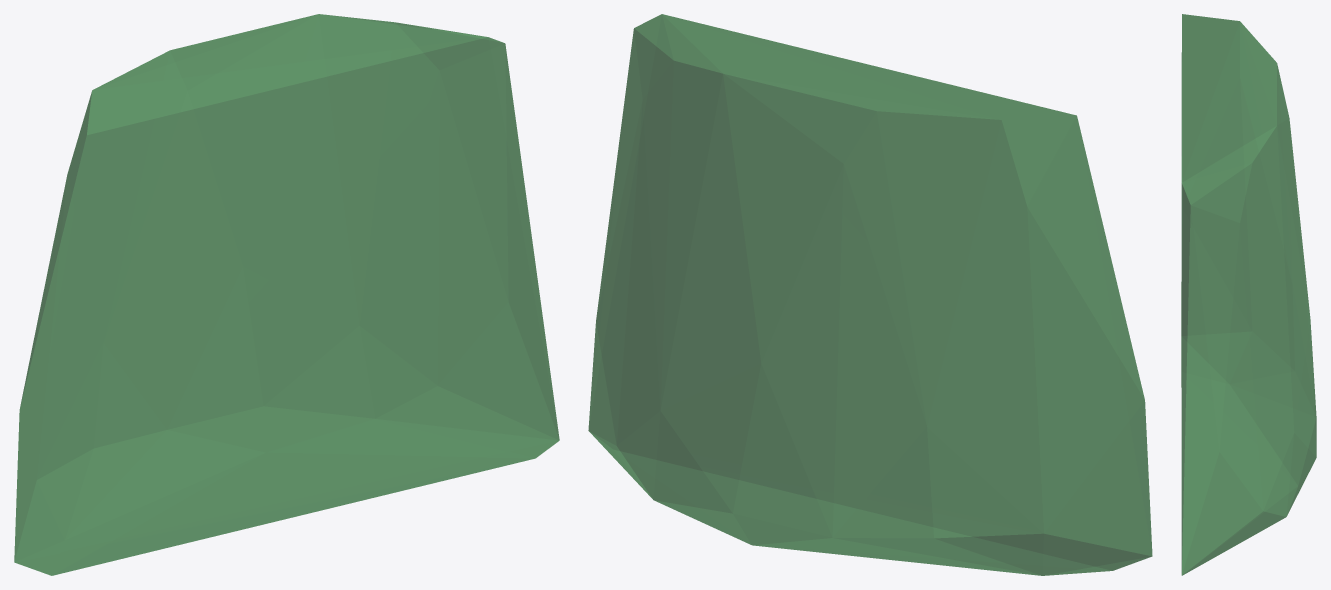
The picture shows the model from 3 angles, left to right: view 1: azimuth 30°, elevation 25°; view 2: azimuth 150°, elevation 25°; view 3: azimuth 270°, elevation 25°; orthographic projection. The views are drawn at different scales.
Visible parts, largest first — view 1: Shape_IndexedFaceSet.003_Shape_IndexedFaceSet.4757; view 2: Shape_IndexedFaceSet.003_Shape_IndexedFaceSet.4757; view 3: Shape_IndexedFaceSet.003_Shape_IndexedFaceSet.4757.
Boxes of the visible parts, x1,y1,x2,y2 form: Shape_IndexedFaceSet.003_Shape_IndexedFaceSet.4757: (14, 14, 559, 575); Shape_IndexedFaceSet.003_Shape_IndexedFaceSet.4757: (588, 14, 1152, 575); Shape_IndexedFaceSet.003_Shape_IndexedFaceSet.4757: (1181, 14, 1316, 575).
Size of the model in its own units: 0.3446 by 0.2677 by 0.0857.
